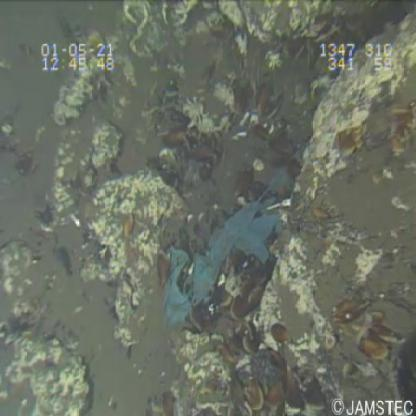Rác: (154, 154, 300, 340)
